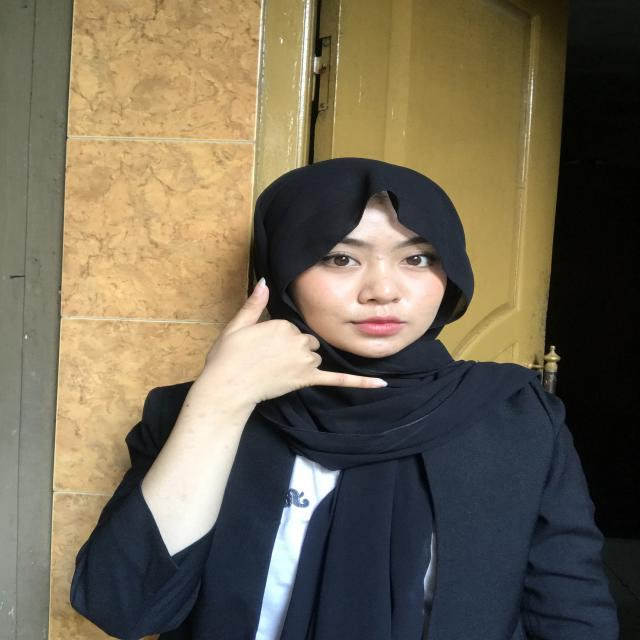telpon: (166, 270, 397, 440)
